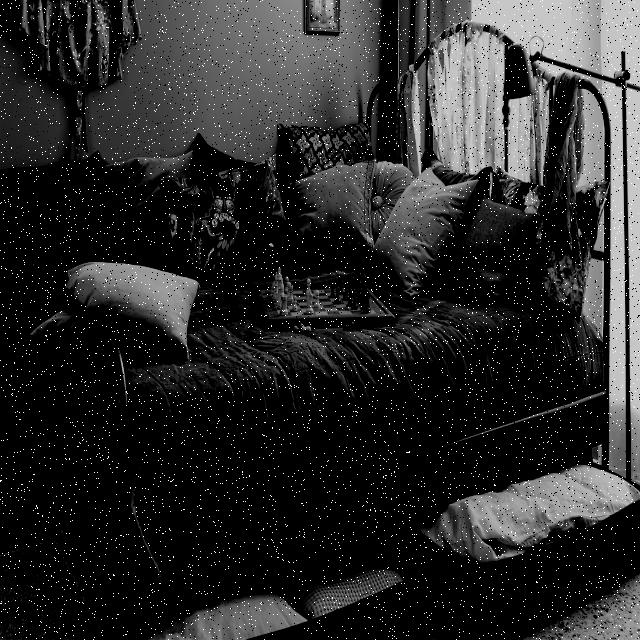bed: (1, 103, 609, 486)
